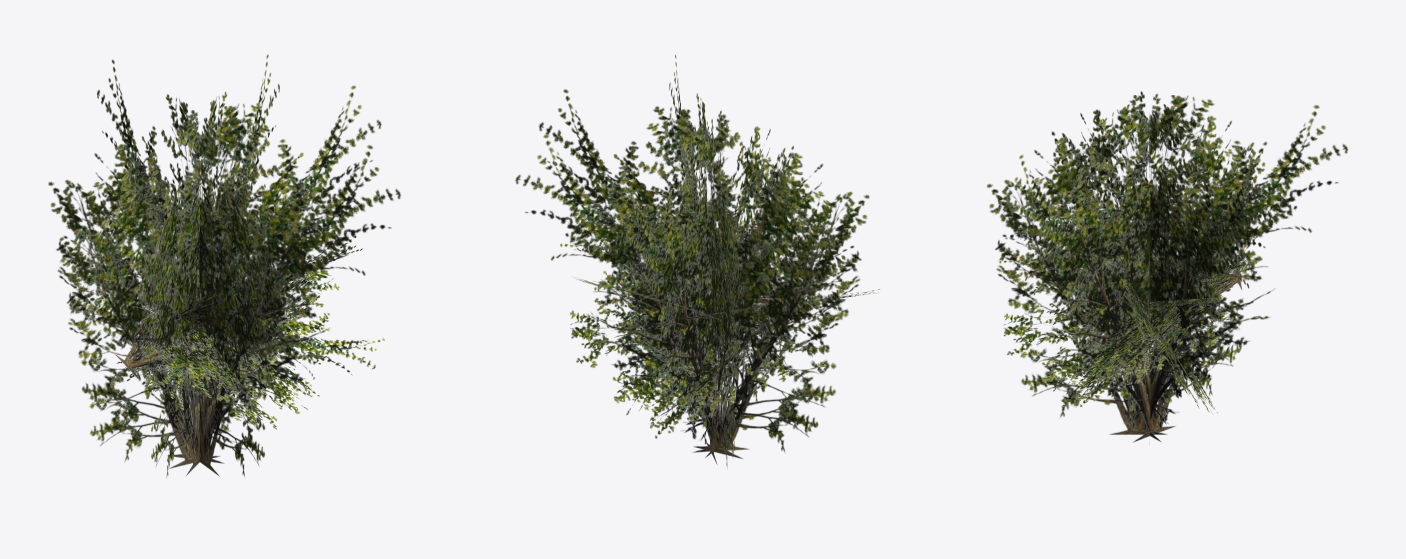
The model's file is shrub 2.glb.
3 views of the same model, side by side, from view 1: azimuth 30°, elevation 25°; view 2: azimuth 150°, elevation 25°; view 3: azimuth 270°, elevation 25° (orthographic). The views are drawn at different scales.
Visible parts, largest first — view 1: bush-transparent-png-16-removebg-preview.002, bush-transparent-png-16-removebg-preview.003, bush-transparent-png-16-removebg-preview, bush-transparent-png-16-removebg-preview.001, bush-transparent-png-16-removebg-preview.006, bush-transparent-png-16-removebg-preview.004, bush-transparent-png-16-removebg-preview.005; view 2: bush-transparent-png-16-removebg-preview.001, bush-transparent-png-16-removebg-preview.003, bush-transparent-png-16-removebg-preview, bush-transparent-png-16-removebg-preview.005, bush-transparent-png-16-removebg-preview.002, bush-transparent-png-16-removebg-preview.006, bush-transparent-png-16-removebg-preview.004; view 3: bush-transparent-png-16-removebg-preview, bush-transparent-png-16-removebg-preview.002, bush-transparent-png-16-removebg-preview.001, bush-transparent-png-16-removebg-preview.006, bush-transparent-png-16-removebg-preview.004, bush-transparent-png-16-removebg-preview.005.
Part boxes in pixels (x1,y1,x2,y2): bush-transparent-png-16-removebg-preview.002: [48, 110, 400, 463]; bush-transparent-png-16-removebg-preview.003: [59, 85, 381, 468]; bush-transparent-png-16-removebg-preview: [97, 59, 282, 476]; bush-transparent-png-16-removebg-preview.001: [137, 54, 279, 478]; bush-transparent-png-16-removebg-preview.006: [135, 293, 319, 429]; bush-transparent-png-16-removebg-preview.004: [100, 250, 384, 387]; bush-transparent-png-16-removebg-preview.005: [114, 236, 362, 394]; bush-transparent-png-16-removebg-preview.001: [515, 114, 869, 452]; bush-transparent-png-16-removebg-preview.003: [539, 89, 847, 458]; bush-transparent-png-16-removebg-preview: [615, 110, 793, 457]; bush-transparent-png-16-removebg-preview.005: [560, 218, 807, 438]; bush-transparent-png-16-removebg-preview.002: [669, 54, 742, 467]; bush-transparent-png-16-removebg-preview.006: [614, 289, 879, 337]; bush-transparent-png-16-removebg-preview.004: [573, 277, 804, 347]; bush-transparent-png-16-removebg-preview: [987, 95, 1348, 434]; bush-transparent-png-16-removebg-preview.002: [997, 93, 1267, 442]; bush-transparent-png-16-removebg-preview.001: [1051, 91, 1271, 441]; bush-transparent-png-16-removebg-preview.006: [999, 237, 1242, 407]; bush-transparent-png-16-removebg-preview.004: [1062, 254, 1253, 406]; bush-transparent-png-16-removebg-preview.005: [1108, 249, 1217, 413].
Size of the model in its own units: 1.15 by 1 by 1.15.
Materials: 1 (1 with a texture image).
